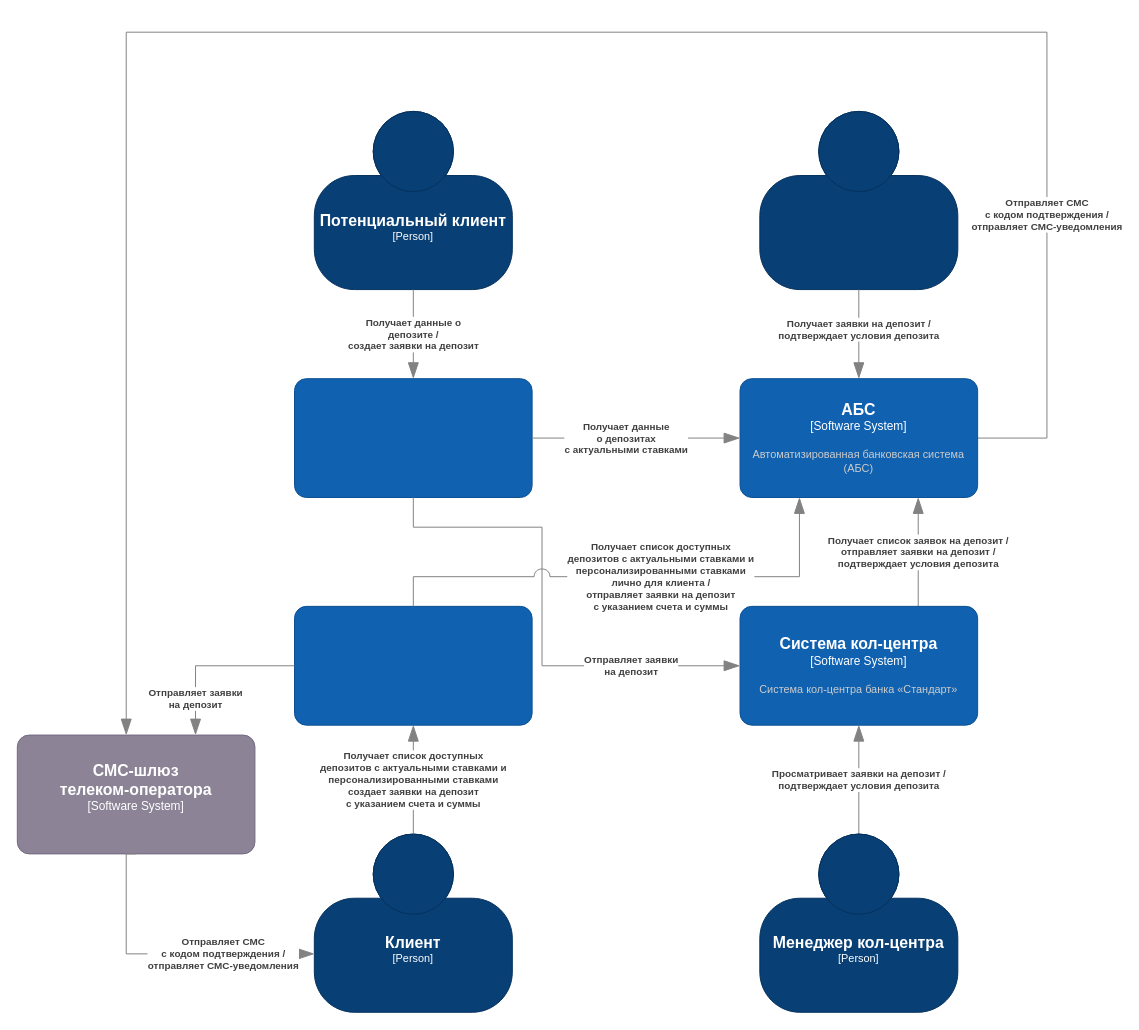
Image size: 1139x1030. Some labels were removed from this diagram. Here are the shapes that lost their labels. From the top down, the centre of each, then its label:
the point at 858,200: Менеджер бэк-офиса [Person]
the point at 413,437: Сайт [Software System] Сайт банка «Стандарт»
the point at 413,665: Интернет-банк [Software System] Интернет-банк банка «Стандарт»
